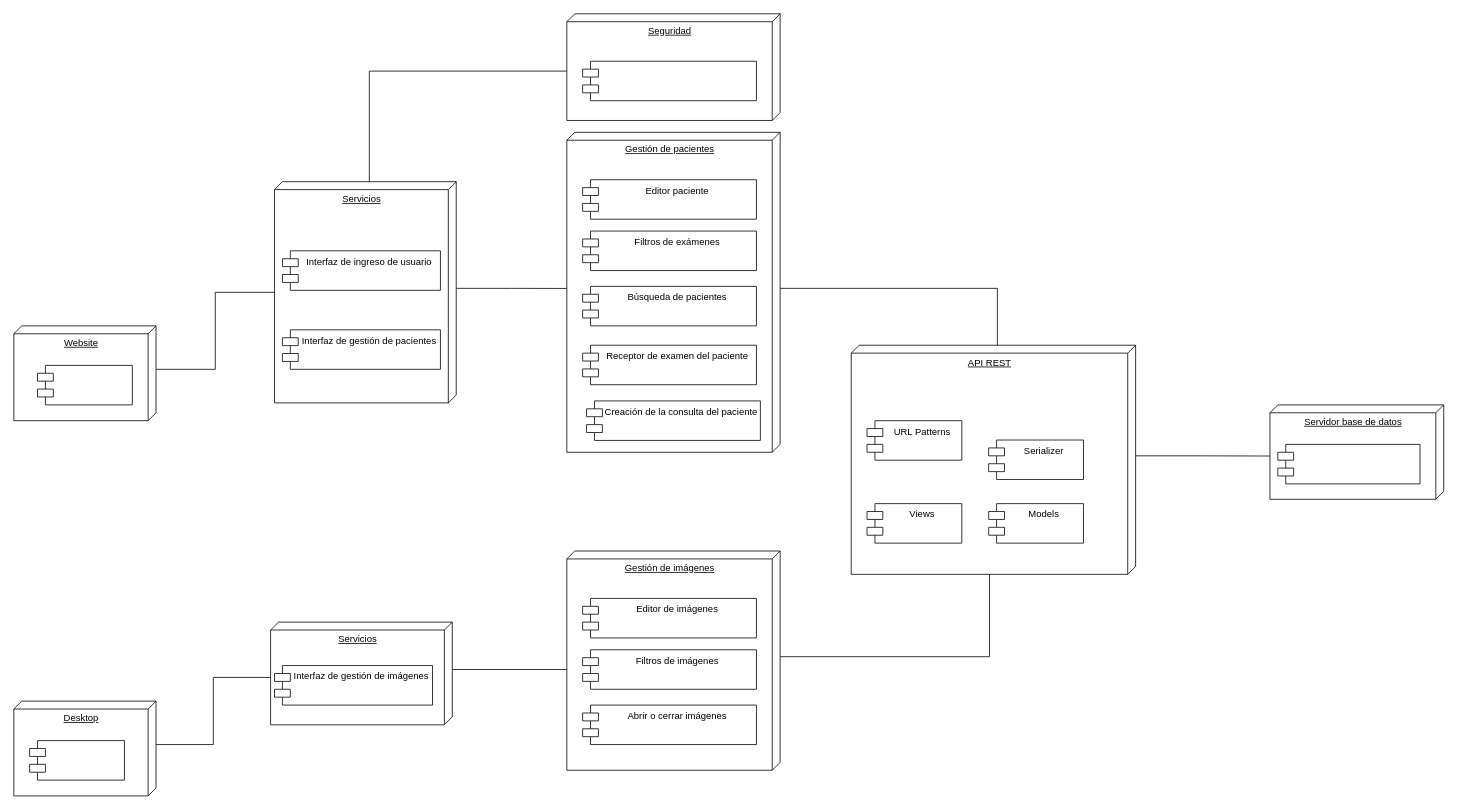
This 1458x810 diagram has some shape labels left out. Each missing label, with the centre of its shape:
"Aplicación .EXE" goes at (76,760).
"Identificación" goes at (669,80).
"MySQL" goes at (1348,464).
"Web browser" goes at (84,385).
